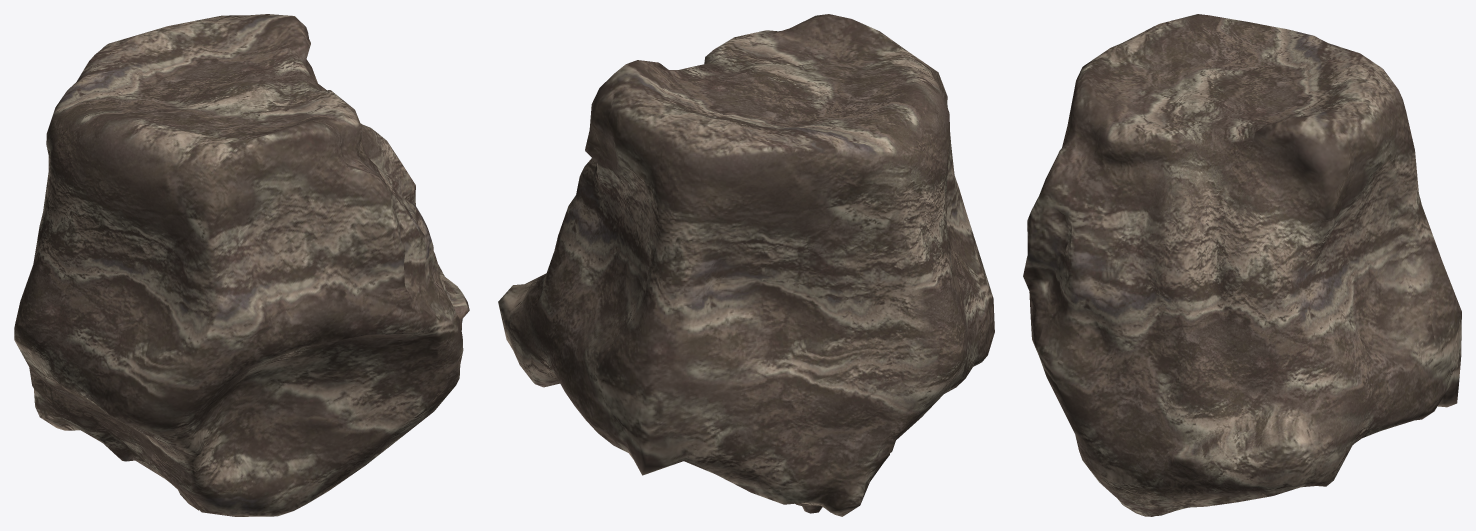
The model's file is Rock_5.fbx.
3 views of the same model, side by side, from view 1: azimuth 30°, elevation 25°; view 2: azimuth 150°, elevation 25°; view 3: azimuth 270°, elevation 25° (orthographic). The views are drawn at different scales.
Parts seen in each view (by area): view 1: Rock_5_Baked; view 2: Rock_5_Baked; view 3: Rock_5_Baked.
Part boxes in pixels (x1=…): Rock_5_Baked: x1=14, y1=14, x2=469, y2=516; Rock_5_Baked: x1=498, y1=14, x2=994, y2=516; Rock_5_Baked: x1=1023, y1=14, x2=1461, y2=516.
Size of the model in its own units: 2 by 1.73 by 1.92.
1 material, 1 textured.
